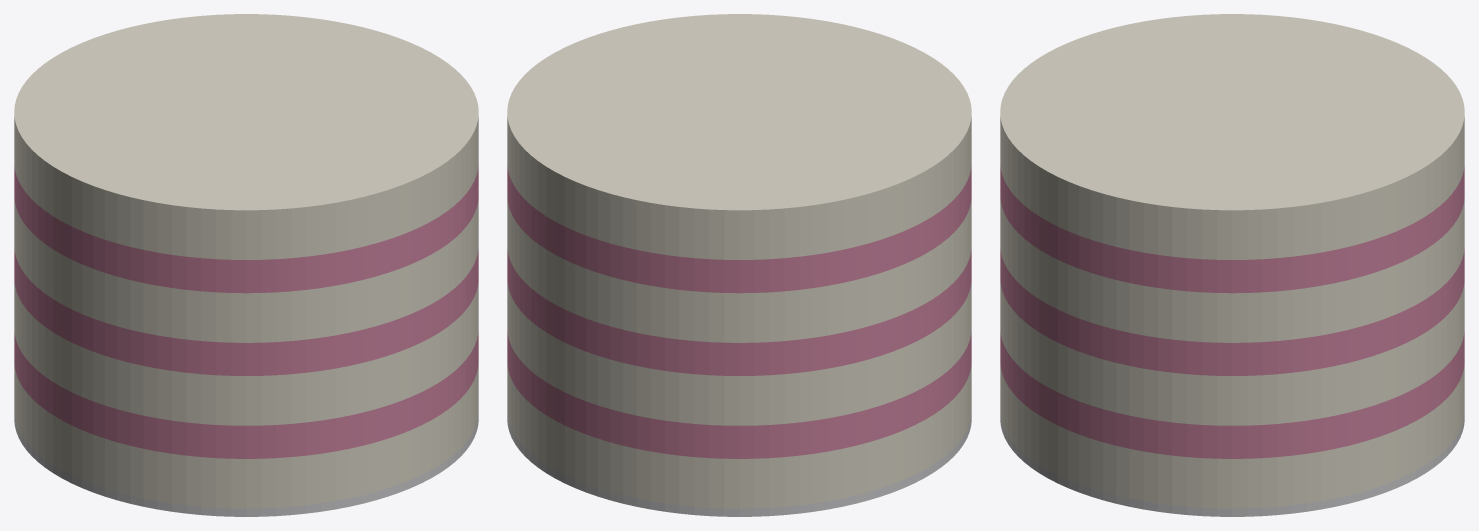
Rendered from cake_10in_layers4.glb.
The picture shows the model from 3 angles, left to right: view 1: azimuth 30°, elevation 25°; view 2: azimuth 150°, elevation 25°; view 3: azimuth 270°, elevation 25°; orthographic projection.
Visible parts, largest first — view 1: geometry_6, geometry_0, geometry_2, geometry_4, geometry_1, geometry_3, geometry_5, geometry_7; view 2: geometry_6, geometry_0, geometry_2, geometry_4, geometry_1, geometry_3, geometry_5, geometry_7; view 3: geometry_6, geometry_0, geometry_2, geometry_4, geometry_1, geometry_3, geometry_5, geometry_7.
Part boxes in pixels (x1,y1,x2,y2): geometry_6: (14, 14, 478, 259); geometry_0: (14, 364, 478, 508); geometry_2: (14, 282, 478, 425); geometry_4: (14, 199, 478, 342); geometry_1: (14, 331, 478, 458); geometry_3: (14, 248, 478, 375); geometry_5: (14, 166, 478, 293); geometry_7: (14, 414, 478, 516); geometry_6: (507, 14, 971, 259); geometry_0: (507, 364, 971, 508); geometry_2: (507, 282, 971, 425); geometry_4: (507, 199, 971, 342); geometry_1: (507, 331, 971, 458); geometry_3: (507, 248, 971, 375); geometry_5: (507, 166, 971, 293); geometry_7: (507, 414, 971, 516); geometry_6: (1000, 14, 1464, 259); geometry_0: (1000, 364, 1464, 508); geometry_2: (1000, 282, 1464, 425); geometry_4: (1000, 199, 1464, 342); geometry_1: (1000, 331, 1464, 458); geometry_3: (1000, 248, 1464, 375); geometry_5: (1000, 166, 1464, 293); geometry_7: (1000, 414, 1464, 516).
Size of the model in its own units: 0.254 by 0.185 by 0.254.
